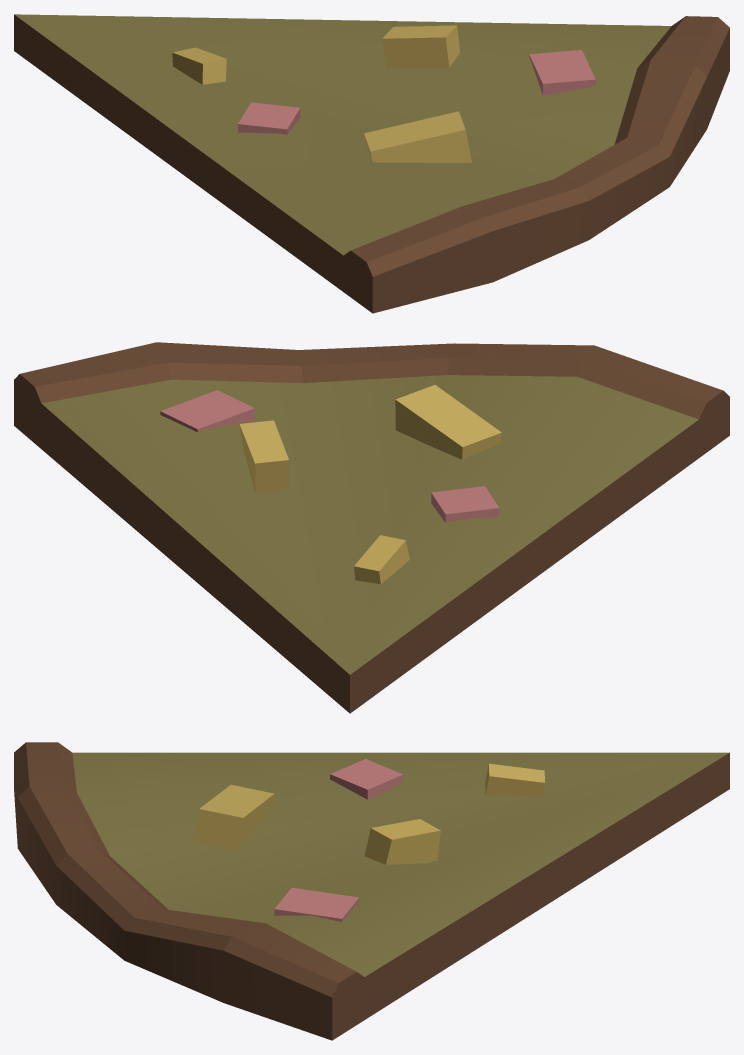
Rendered from Pizza_Slice_01.fbx.
3 renders of one model, top to bottom at view 1: azimuth 30°, elevation 25°; view 2: azimuth 150°, elevation 25°; view 3: azimuth 270°, elevation 25°, orthographic. The views are drawn at different scales.
Parts seen in each view (by area): view 1: Slice_01; view 2: Slice_01; view 3: Slice_01.
Boxes of the visible parts, x1,y1,x2,y2 form: Slice_01: (14,14,729,313); Slice_01: (14,342,729,713); Slice_01: (14,742,729,1040).
Size of the model in its own units: 16.64 by 2.58 by 20.02.
